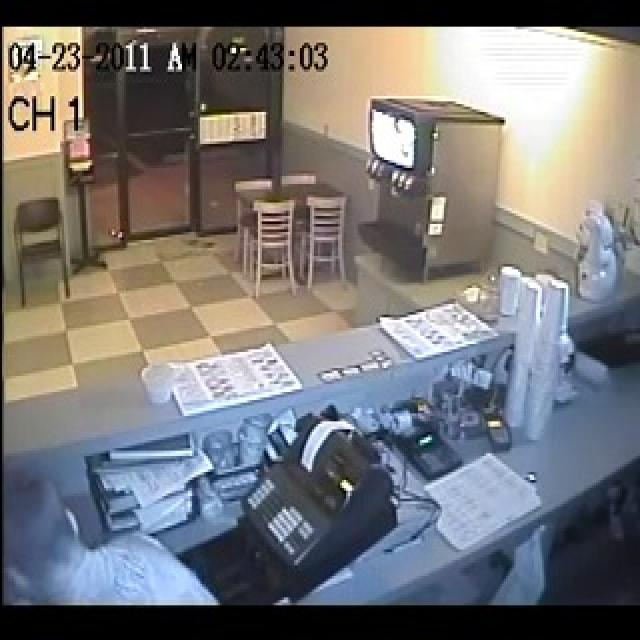thief: (3, 456, 227, 608)
